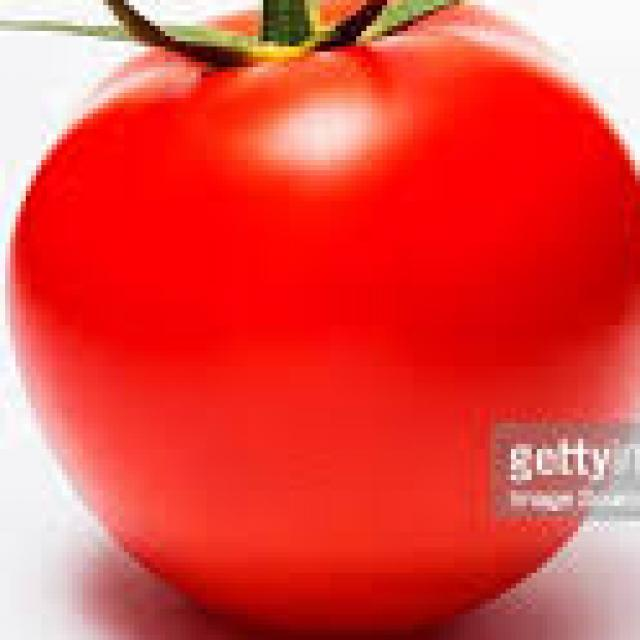Healthy: (23, 9, 640, 627)
